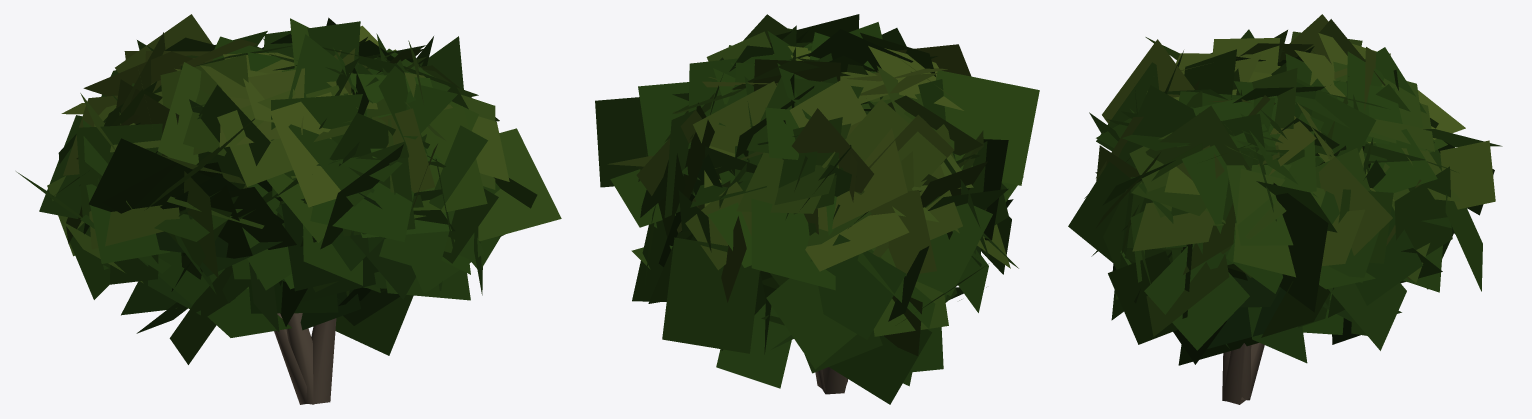
The model's file is PLN_Bush_Berry.fbx.
3 views of the same model, side by side, from view 1: azimuth 30°, elevation 25°; view 2: azimuth 150°, elevation 25°; view 3: azimuth 270°, elevation 25° (orthographic). The views are drawn at different scales.
Visible parts, largest first — view 1: PLN_Bush_Berry; view 2: PLN_Bush_Berry; view 3: PLN_Bush_Berry.
Part boxes in pixels (left/top/right/bottom): PLN_Bush_Berry: left=16, top=14, right=561, bottom=404; PLN_Bush_Berry: left=595, top=14, right=1039, bottom=404; PLN_Bush_Berry: left=1068, top=14, right=1502, bottom=404.
Bounding box in the file's own units: 2.51 × 2.14 × 2.51.
